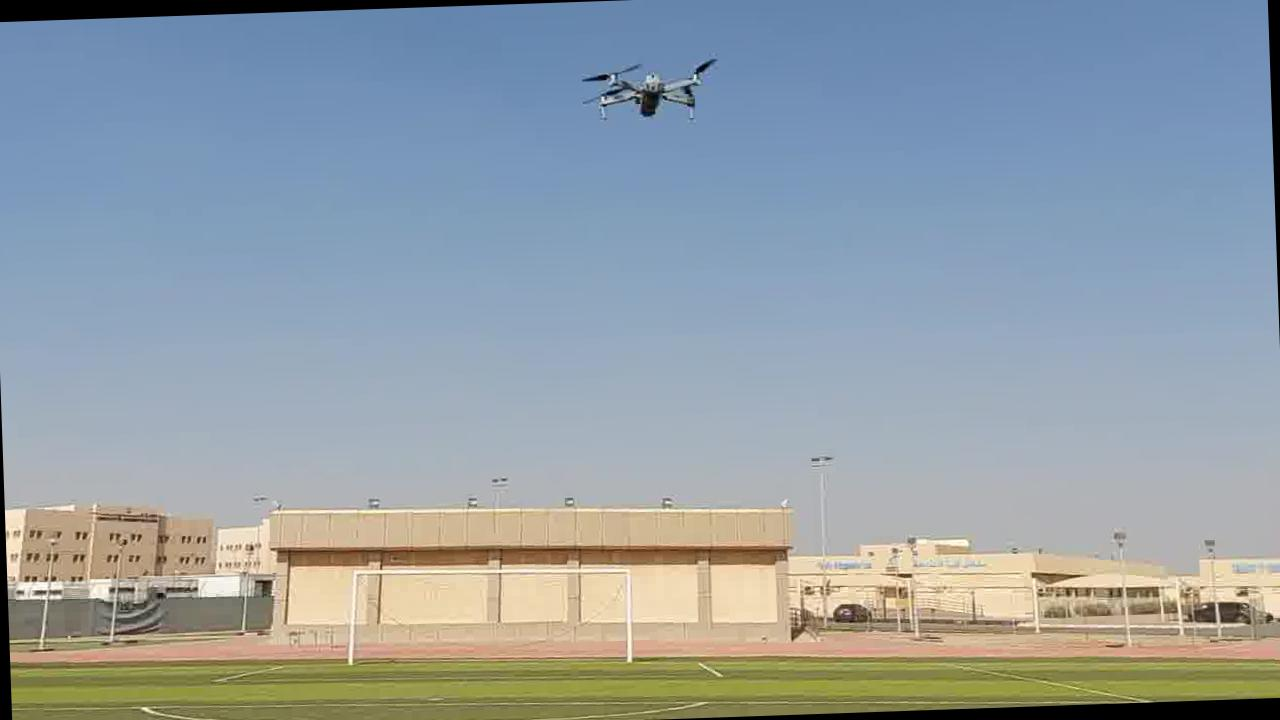drone: (566, 48, 726, 138)
